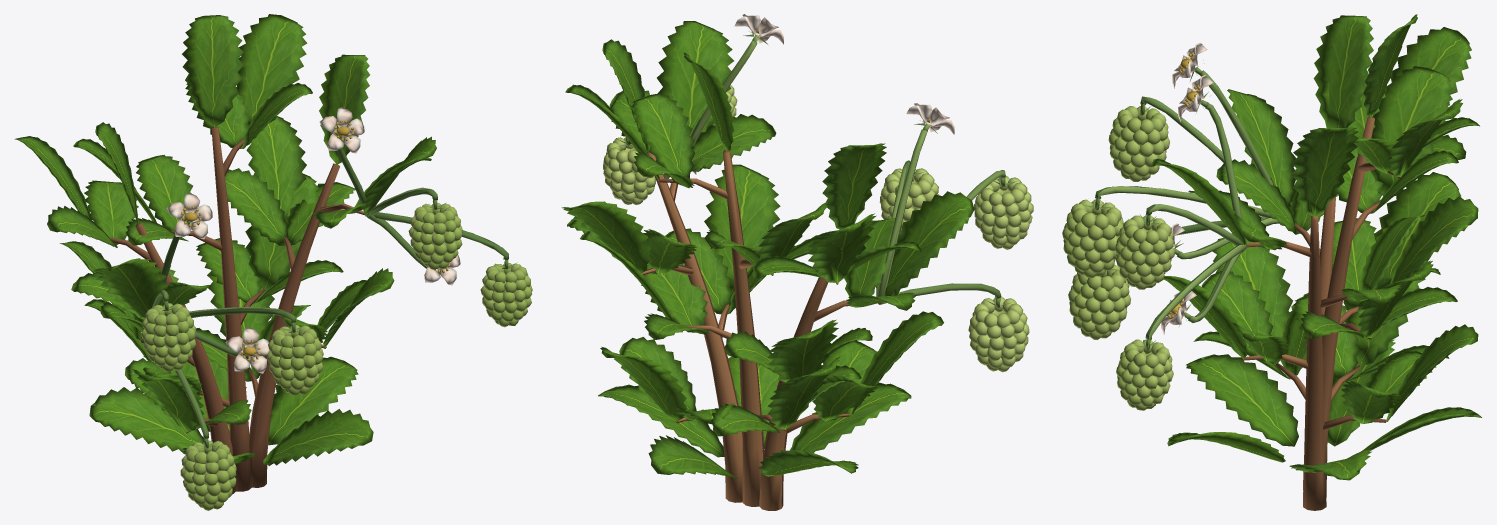
Rendered from NP_Raspberry_Flowering.fbx.
The picture shows the model from 3 angles, left to right: view 1: azimuth 30°, elevation 25°; view 2: azimuth 150°, elevation 25°; view 3: azimuth 270°, elevation 25°; orthographic projection. The views are drawn at different scales.
Parts seen in each view (by area): view 1: NP_Raspberry_Flowering; view 2: NP_Raspberry_Flowering; view 3: NP_Raspberry_Flowering.
Part boxes in pixels (<box>): NP_Raspberry_Flowering: <box>14,14,532,510</box>; NP_Raspberry_Flowering: <box>561,14,1033,510</box>; NP_Raspberry_Flowering: <box>1062,14,1481,510</box>.
Size of the model in its own units: 87.56 by 94.31 by 74.12.
